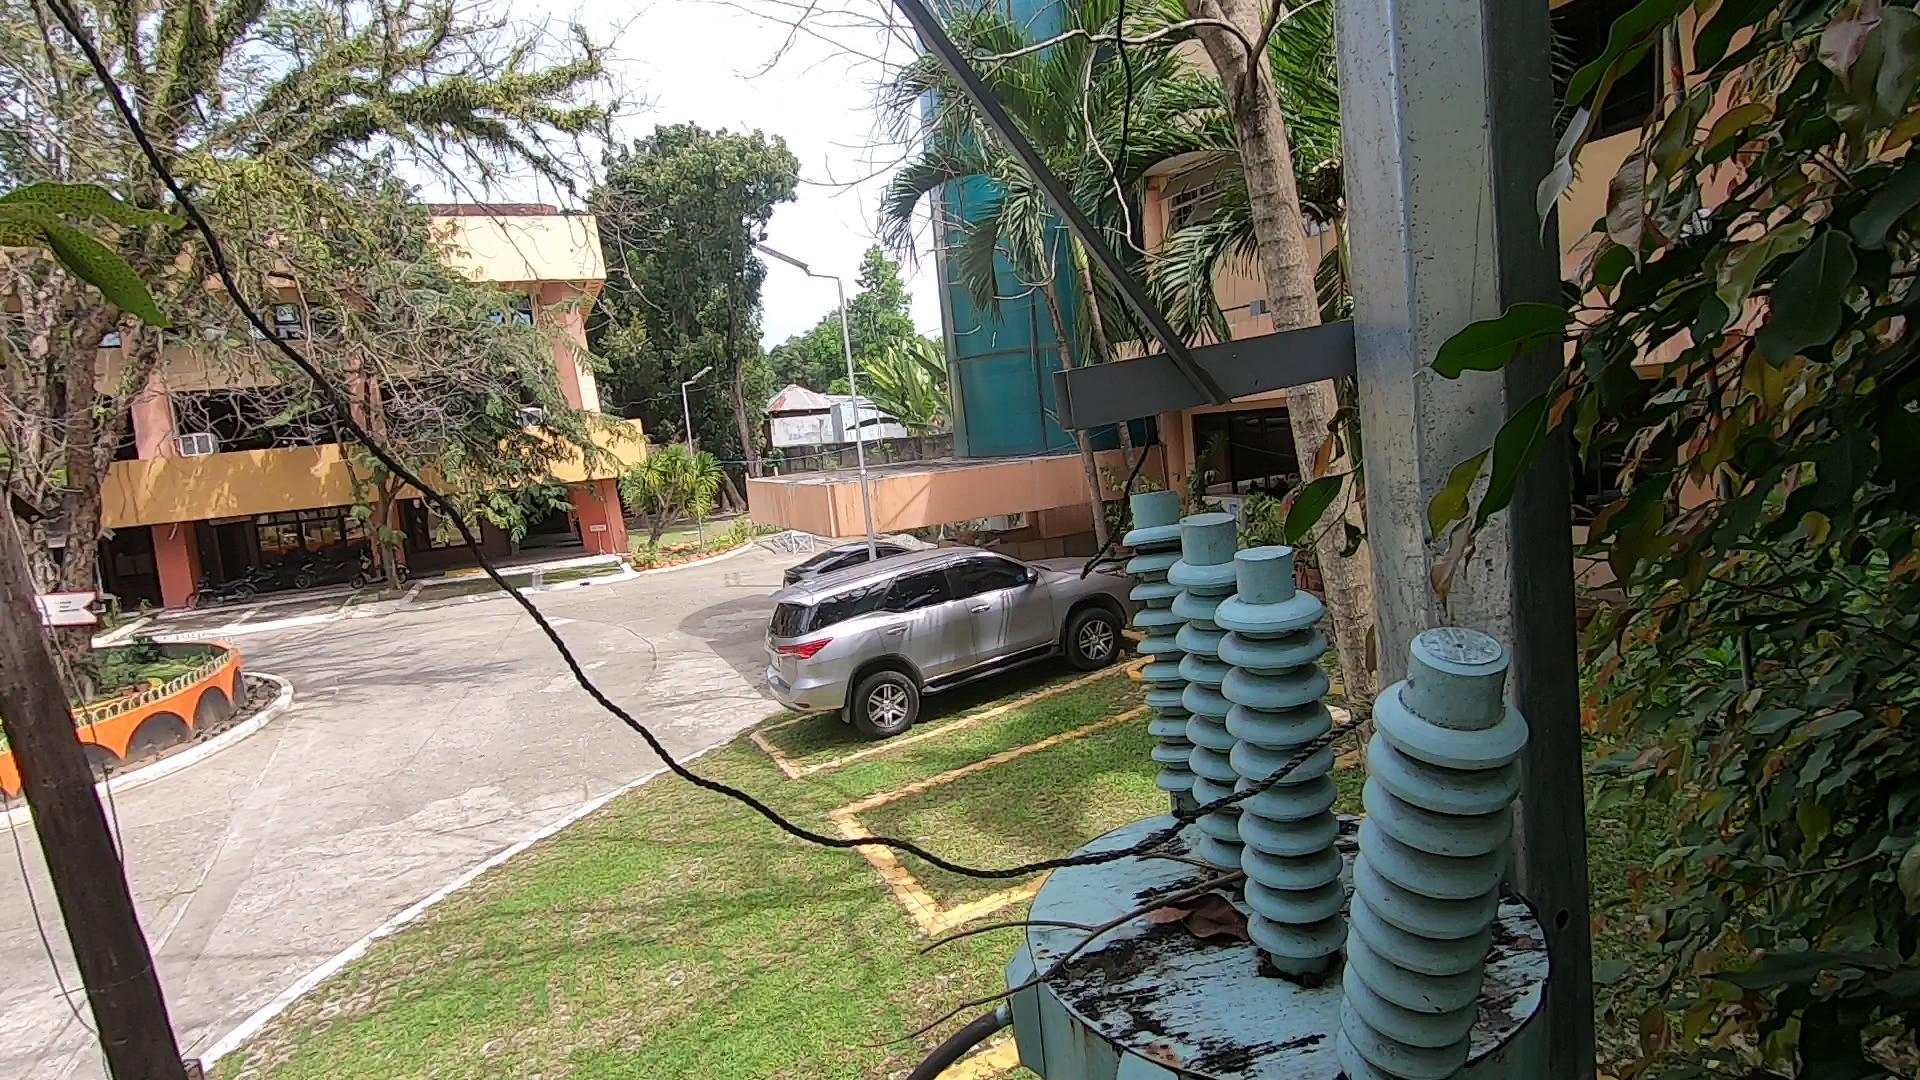leaf: (1139, 885, 1251, 945)
tree branch: (858, 866, 1298, 1054)
